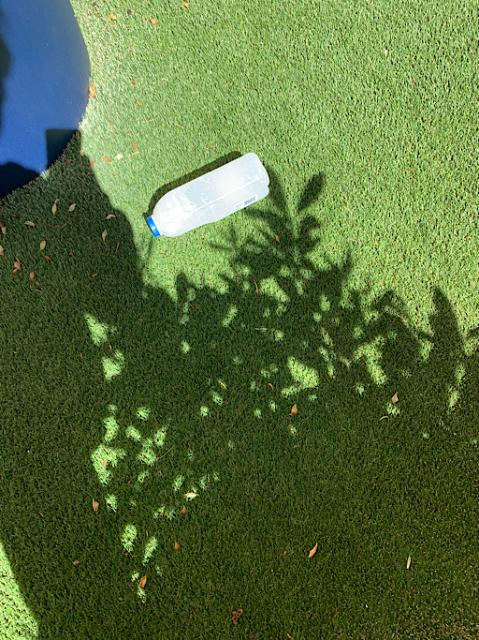plastic: (145, 152, 268, 235)
